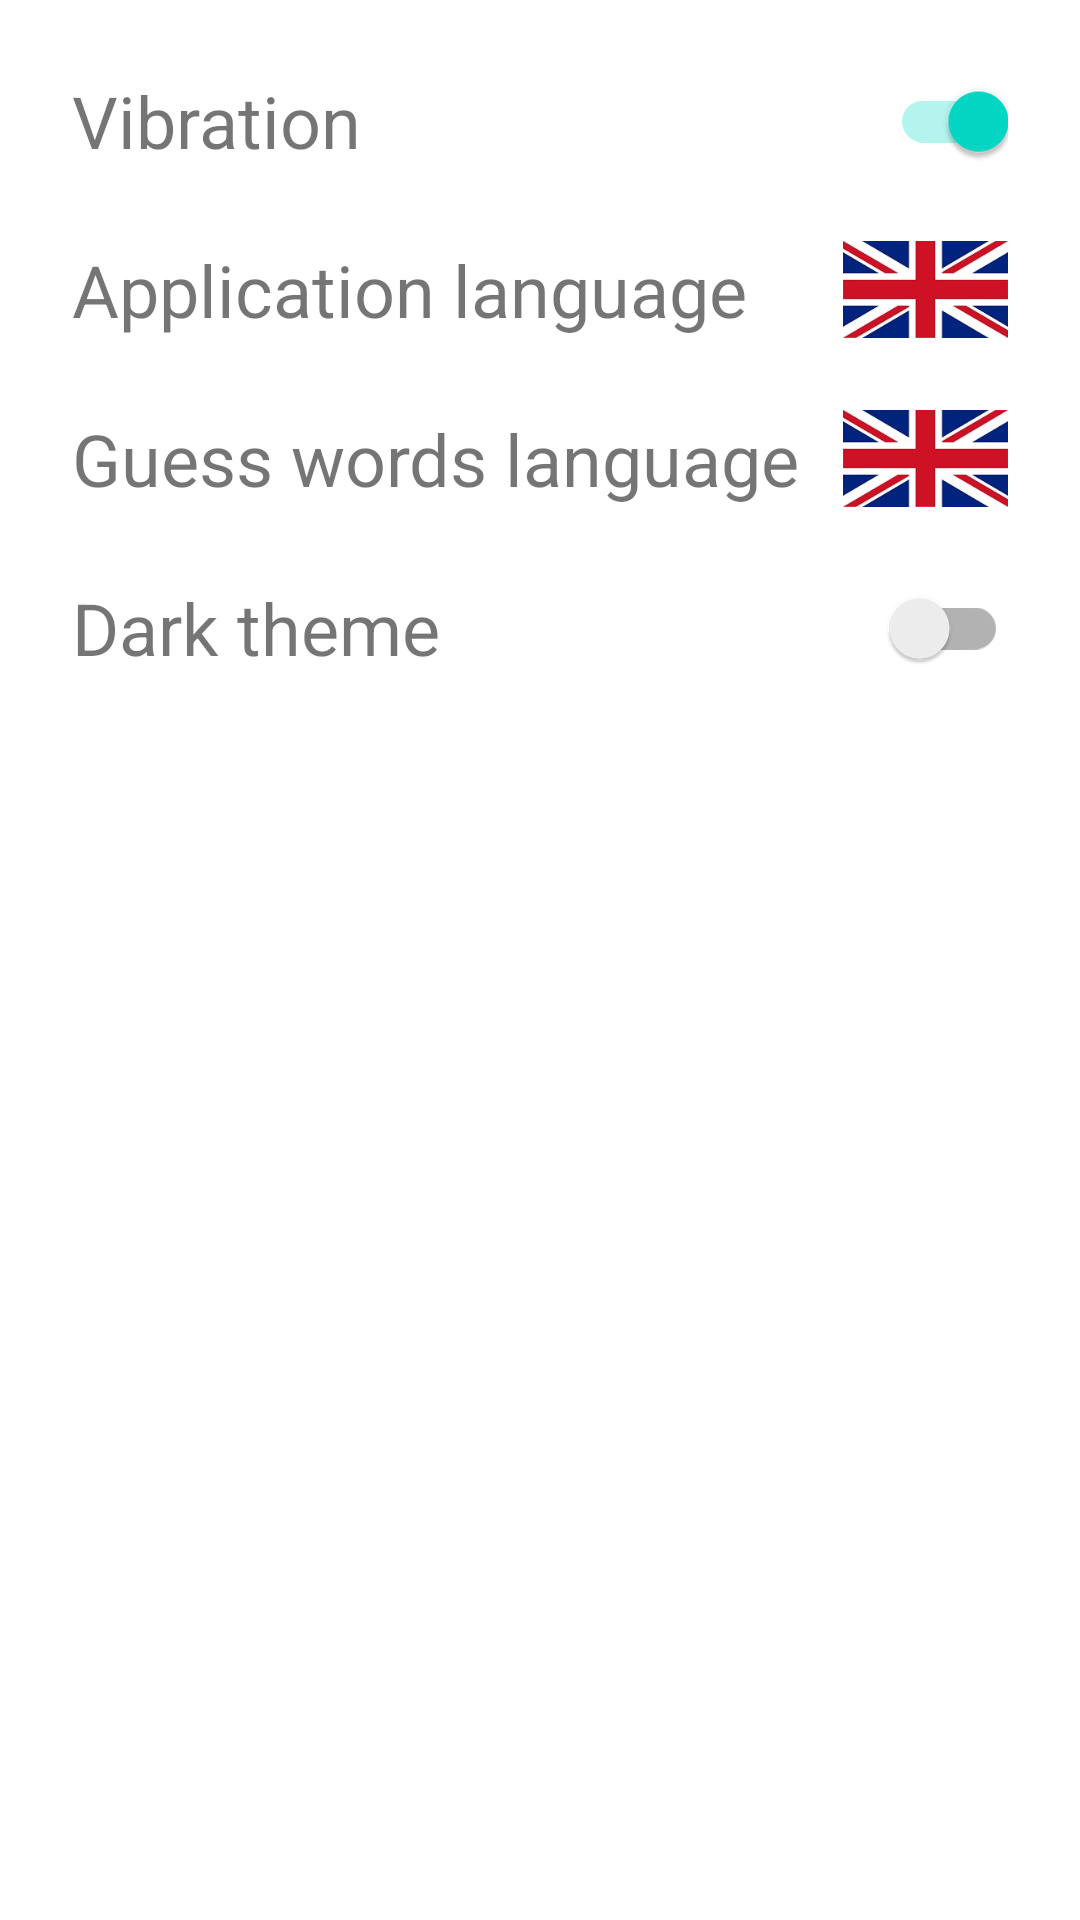

Where to tap for icons on this 1080 × 1920 app screen, as (x,y):
Country flag: (925,289), (925,458)
